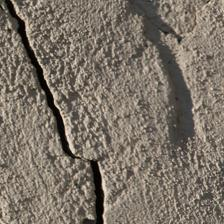Crack: (1, 0, 82, 112), (0, 0, 155, 57)
